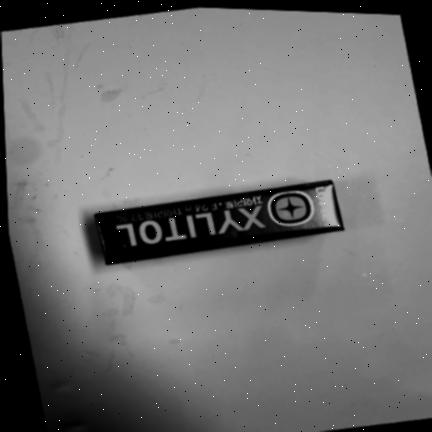gum_green: (95, 181, 345, 265)
